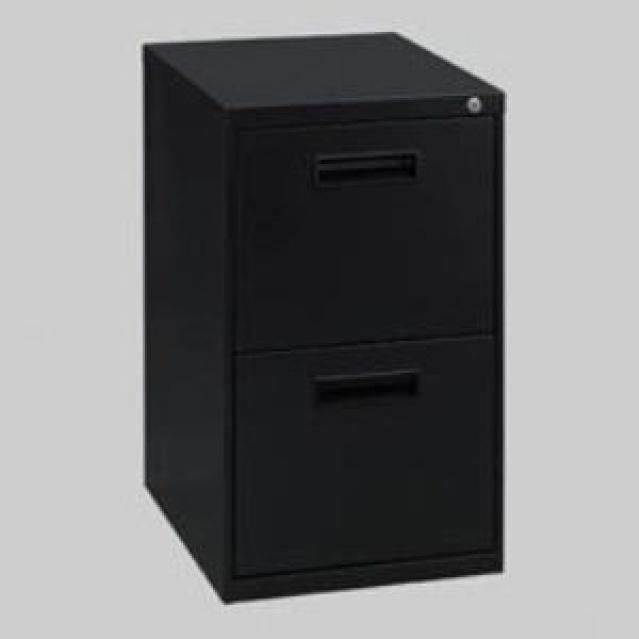Filing Cabinet: (224, 87, 504, 604)
